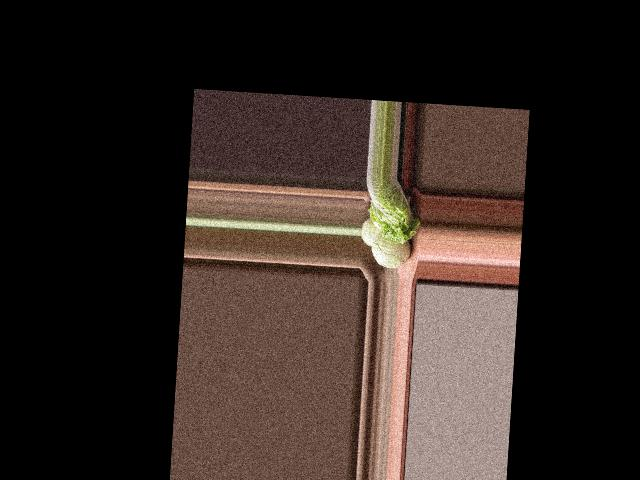lettuce: (364, 178, 423, 244)
